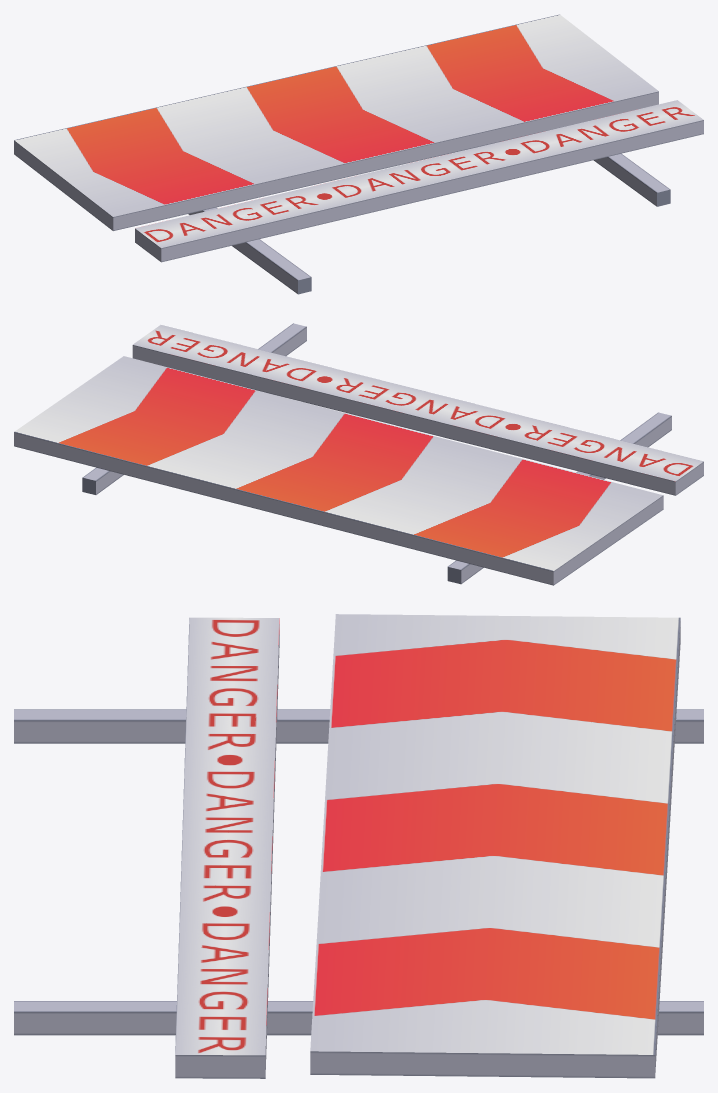
The model's file is danger_sign_reverse.fbx.
3 views of the same model, one above another, from view 1: azimuth 30°, elevation 25°; view 2: azimuth 150°, elevation 25°; view 3: azimuth 270°, elevation 25° (orthographic). The views are drawn at different scales.
Parts seen in each view (by area): view 1: directional_sign_reverse; view 2: directional_sign_reverse; view 3: directional_sign_reverse.
Part boxes in pixels (x1=…): directional_sign_reverse: x1=14, y1=14, x2=703, y2=294; directional_sign_reverse: x1=14, y1=323, x2=703, y2=585; directional_sign_reverse: x1=14, y1=614, x2=703, y2=1078.
Size of the model in its own units: 2.42 by 0.12 by 1.6.
